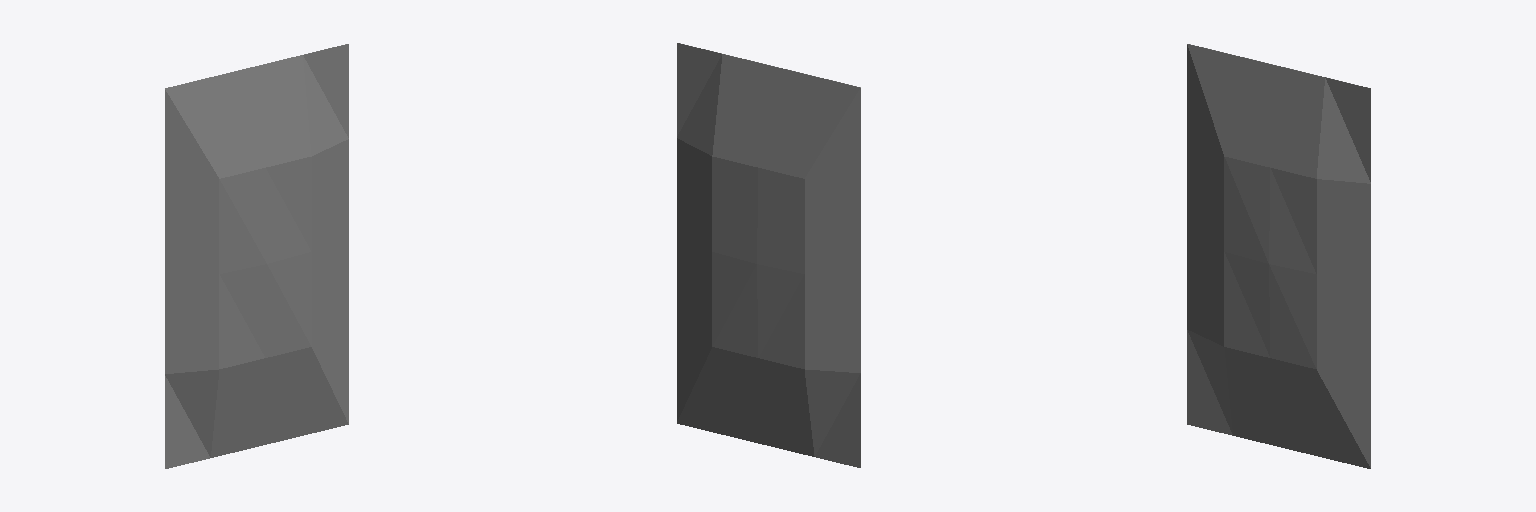
Rendered from Gel_Pack.obj.
The picture shows the model from 3 angles: view 1: azimuth 30°, elevation 25°; view 2: azimuth 150°, elevation 25°; view 3: azimuth 330°, elevation 25°; orthographic projection.
Visible parts, largest first — view 1: GEL_frio; view 2: GEL_frio; view 3: GEL_frio.
Boxes of the visible parts, box(x1,y1,x2,y2) form: GEL_frio: box(165, 44, 348, 468); GEL_frio: box(677, 43, 860, 467); GEL_frio: box(1187, 44, 1370, 468).
Size of the model in its own units: 0.4687 by 0.9262 by 0.0974.